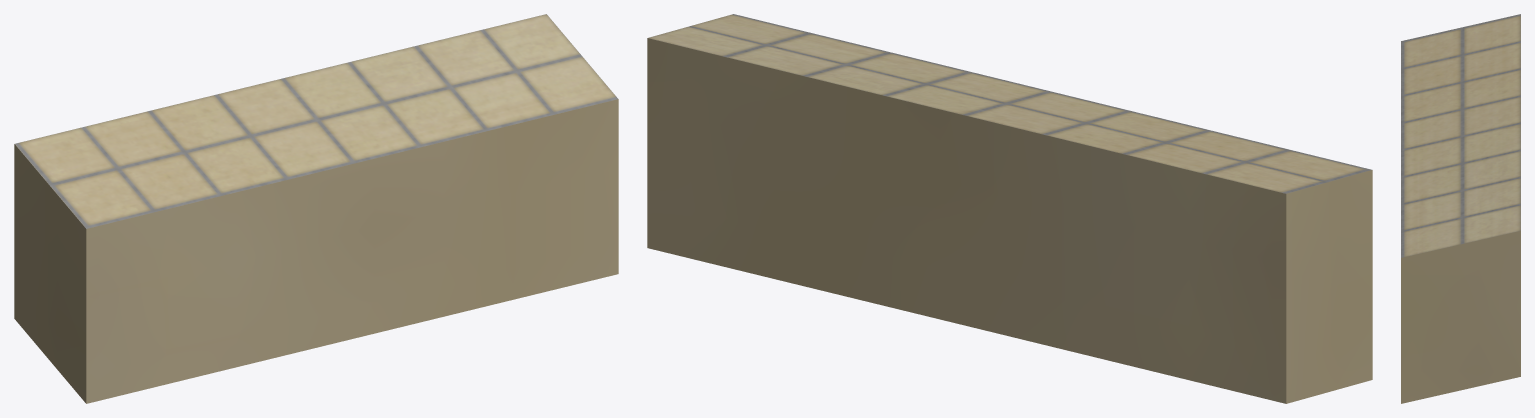
File: set_floor_03_slope_end.fbx
The picture shows the model from 3 angles, left to right: view 1: azimuth 30°, elevation 25°; view 2: azimuth 150°, elevation 25°; view 3: azimuth 270°, elevation 25°; orthographic projection. The views are drawn at different scales.
Parts seen in each view (by area): view 1: set_floor_03_slope_end; view 2: set_floor_03_slope_end; view 3: set_floor_03_slope_end.
Boxes of the visible parts, bbox=[...] form: set_floor_03_slope_end: bbox=[14, 14, 618, 403]; set_floor_03_slope_end: bbox=[647, 14, 1372, 403]; set_floor_03_slope_end: bbox=[1401, 14, 1520, 403].
Bounding box in the file's own units: 200 × 74.53 × 46.77.
